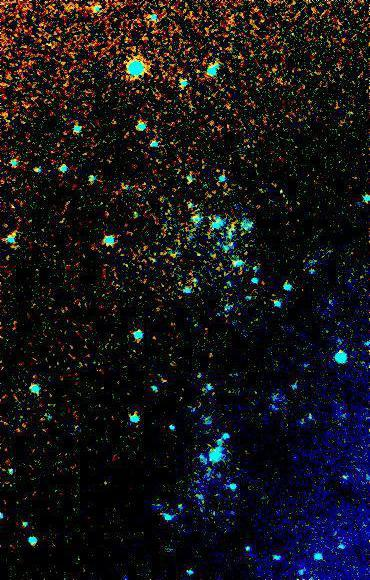star: (92, 227, 122, 257)
